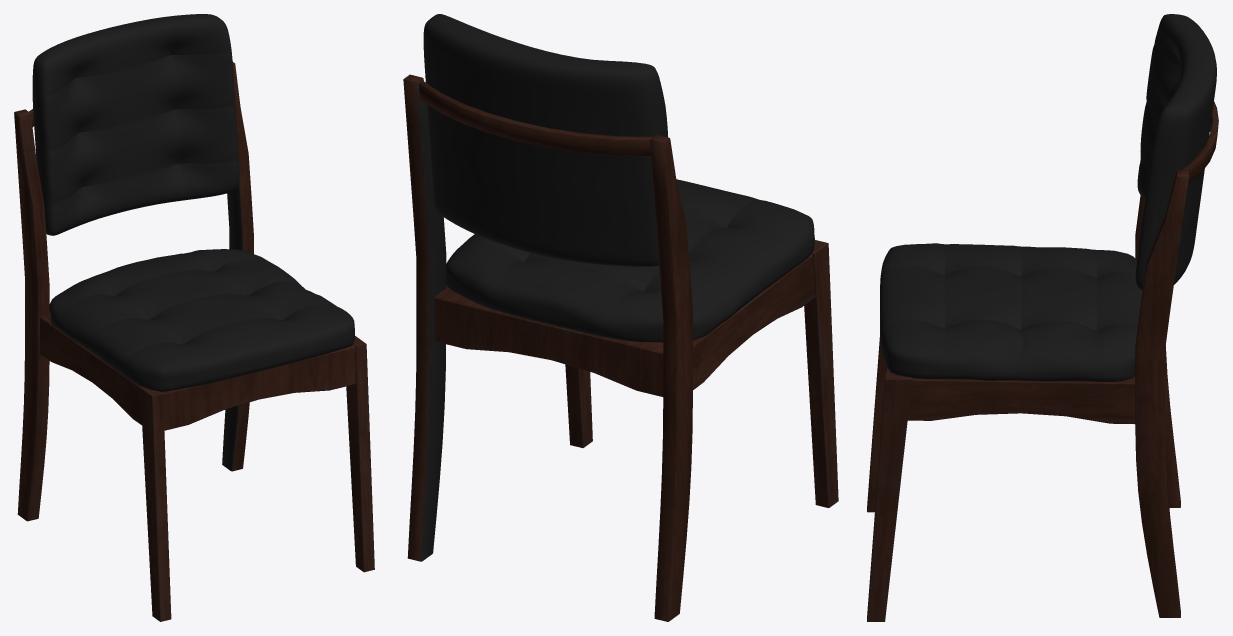
The model's file is dining_room_chair.fbx.
3 renders of one model, left to right at view 1: azimuth 30°, elevation 25°; view 2: azimuth 150°, elevation 25°; view 3: azimuth 270°, elevation 25°, orthographic. The views are drawn at different scales.
Visible parts, largest first — view 1: Cube.005; view 2: Cube.005; view 3: Cube.005.
Boxes of the visible parts, x1,y1,x2,y2 form: Cube.005: [14, 14, 374, 621]; Cube.005: [403, 14, 838, 621]; Cube.005: [867, 14, 1218, 621].
Bounding box in the file's own units: 53.05 × 106 × 67.03.
